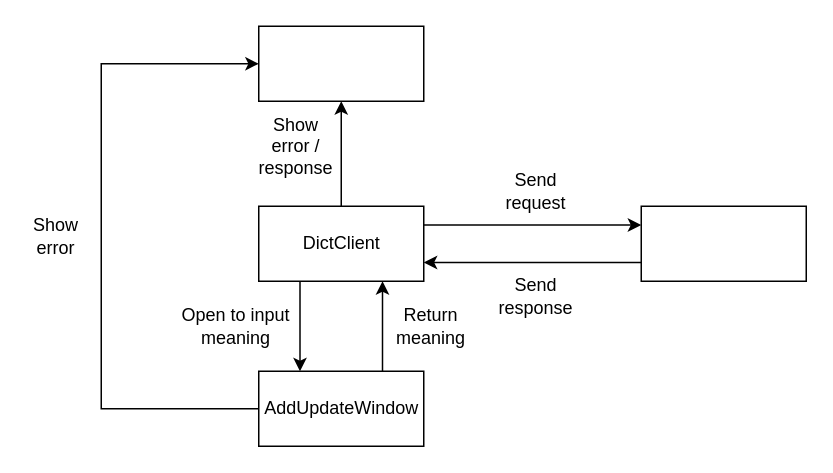
The diagram is 833 pixels wide and 473 high, and some of its shapes have lost their labels. Each missing label, with the box of its shape:
DictServer: (640, 205, 806, 281)
ResponseWindow: (257, 25, 424, 101)
